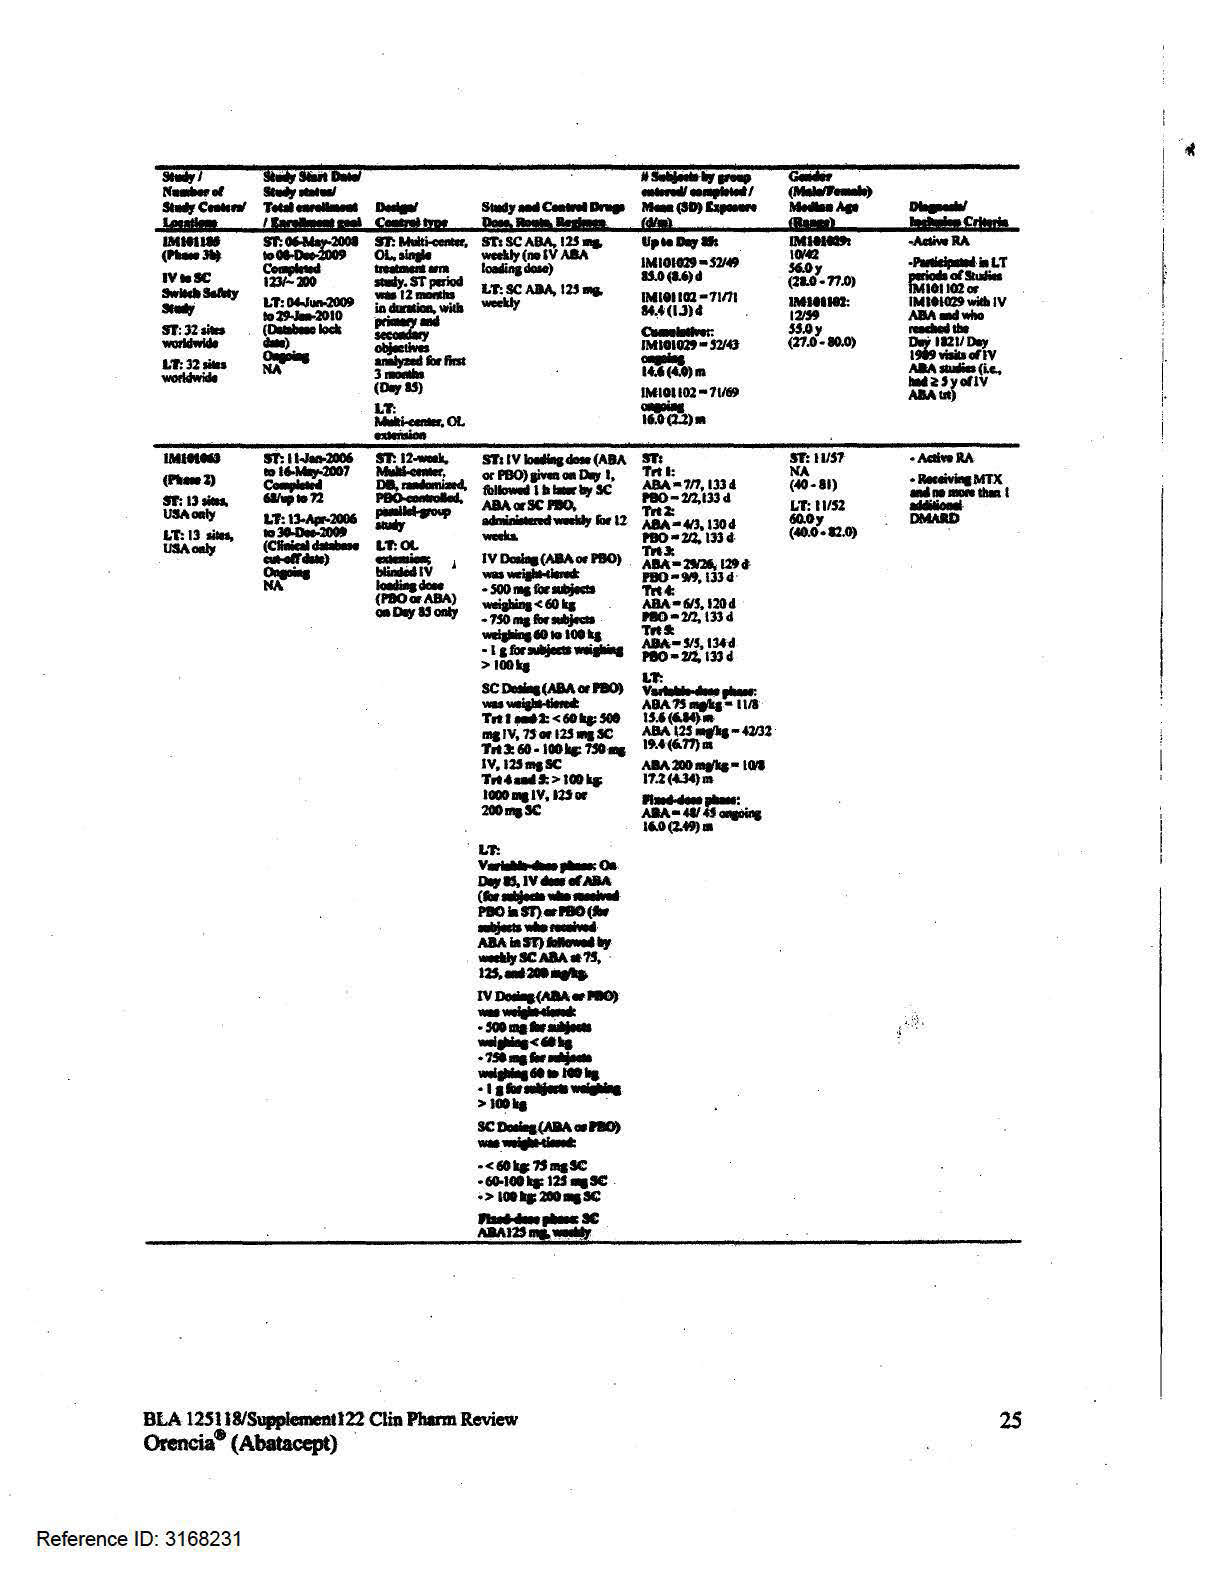partial_lined: (144, 164, 1024, 1247)
